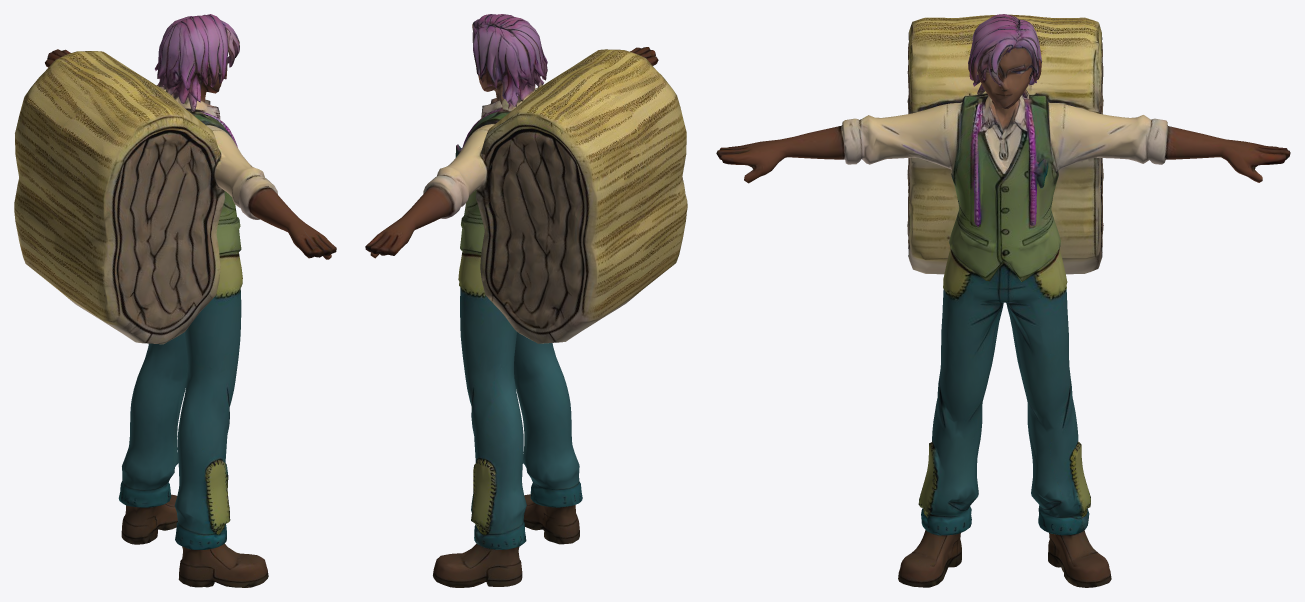
File: n2_tailor.fb69c2ce.glb
The picture shows the model from 3 angles, left to right: view 1: azimuth 30°, elevation 25°; view 2: azimuth 150°, elevation 25°; view 3: azimuth 270°, elevation 25°; orthographic projection. The views are drawn at different scales.
Parts seen in each view (by area): view 1: tripo_node_e8464e9a-016c-45e0-86c6-5423ef51b145; view 2: tripo_node_e8464e9a-016c-45e0-86c6-5423ef51b145; view 3: tripo_node_e8464e9a-016c-45e0-86c6-5423ef51b145.
Boxes of the visible parts, x1,y1,x2,y2 form: tripo_node_e8464e9a-016c-45e0-86c6-5423ef51b145: (14, 14, 336, 587); tripo_node_e8464e9a-016c-45e0-86c6-5423ef51b145: (365, 14, 687, 587); tripo_node_e8464e9a-016c-45e0-86c6-5423ef51b145: (716, 14, 1290, 587).
Size of the model in its own units: 0.3511 by 1 by 0.9346.
Materials: 1 (1 with a texture image).
